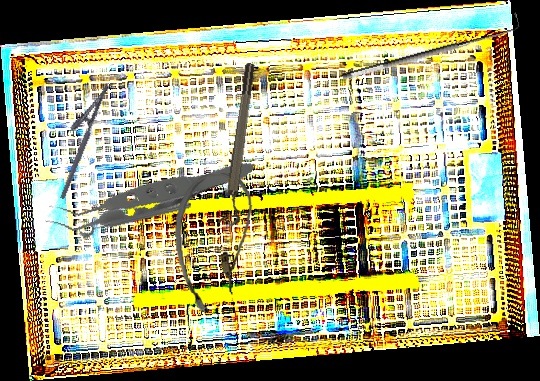Cannula: (171, 171, 260, 314)
Fixation Ring: (217, 62, 265, 228), (75, 193, 193, 239)
Hook Surgical: (338, 11, 522, 83)
Needle Holder: (44, 76, 112, 200)
Tissue Forceps: (42, 113, 255, 273)
